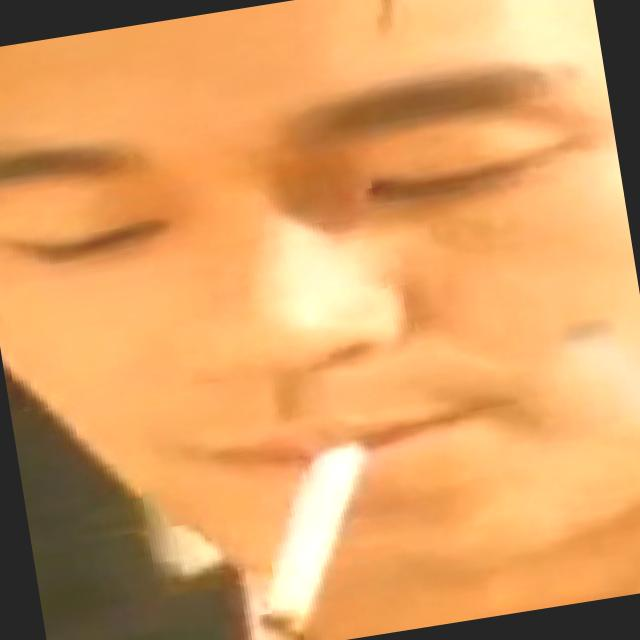smoke: (221, 418, 423, 640)
